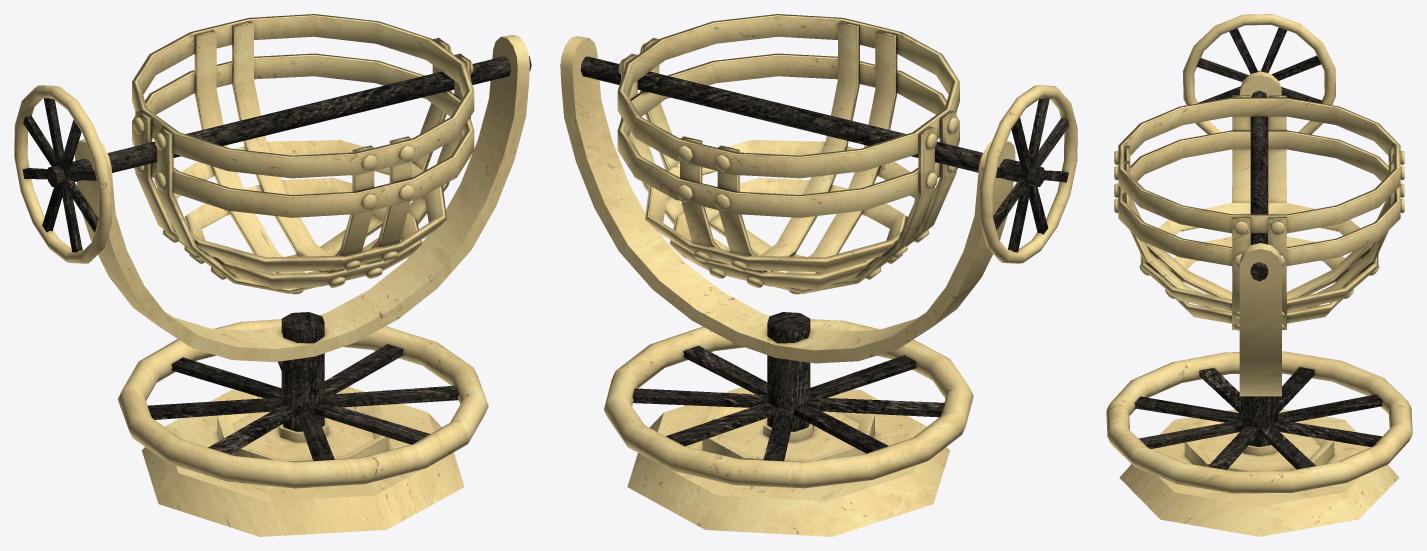
Rendered from LightMechanism01_v01.fbx.
3 renders of one model, left to right at view 1: azimuth 30°, elevation 25°; view 2: azimuth 150°, elevation 25°; view 3: azimuth 270°, elevation 25°, orthographic. The views are drawn at different scales.
Parts seen in each view (by area): view 1: MechanismBasket, MechanismFrame.001, MechanismBase.001; view 2: MechanismBasket, MechanismFrame.001, MechanismBase.001; view 3: MechanismBasket, MechanismFrame.001, MechanismBase.001.
Boxes of the visible parts, left/top/right/bottom form: MechanismBasket: left=14, top=14, right=531, bottom=294; MechanismFrame.001: left=75, top=35, right=529, bottom=488; MechanismBase.001: left=142, top=386, right=464, bottom=536; MechanismBasket: left=560, top=14, right=1077, bottom=294; MechanismFrame.001: left=560, top=36, right=1015, bottom=488; MechanismBase.001: left=627, top=387, right=949, bottom=536; MechanismBasket: left=1114, top=14, right=1404, bottom=330; MechanismFrame.001: left=1106, top=71, right=1412, bottom=493; MechanismBase.001: left=1119, top=409, right=1399, bottom=536.
Size of the model in its own units: 78.46 by 68.86 by 52.38.
